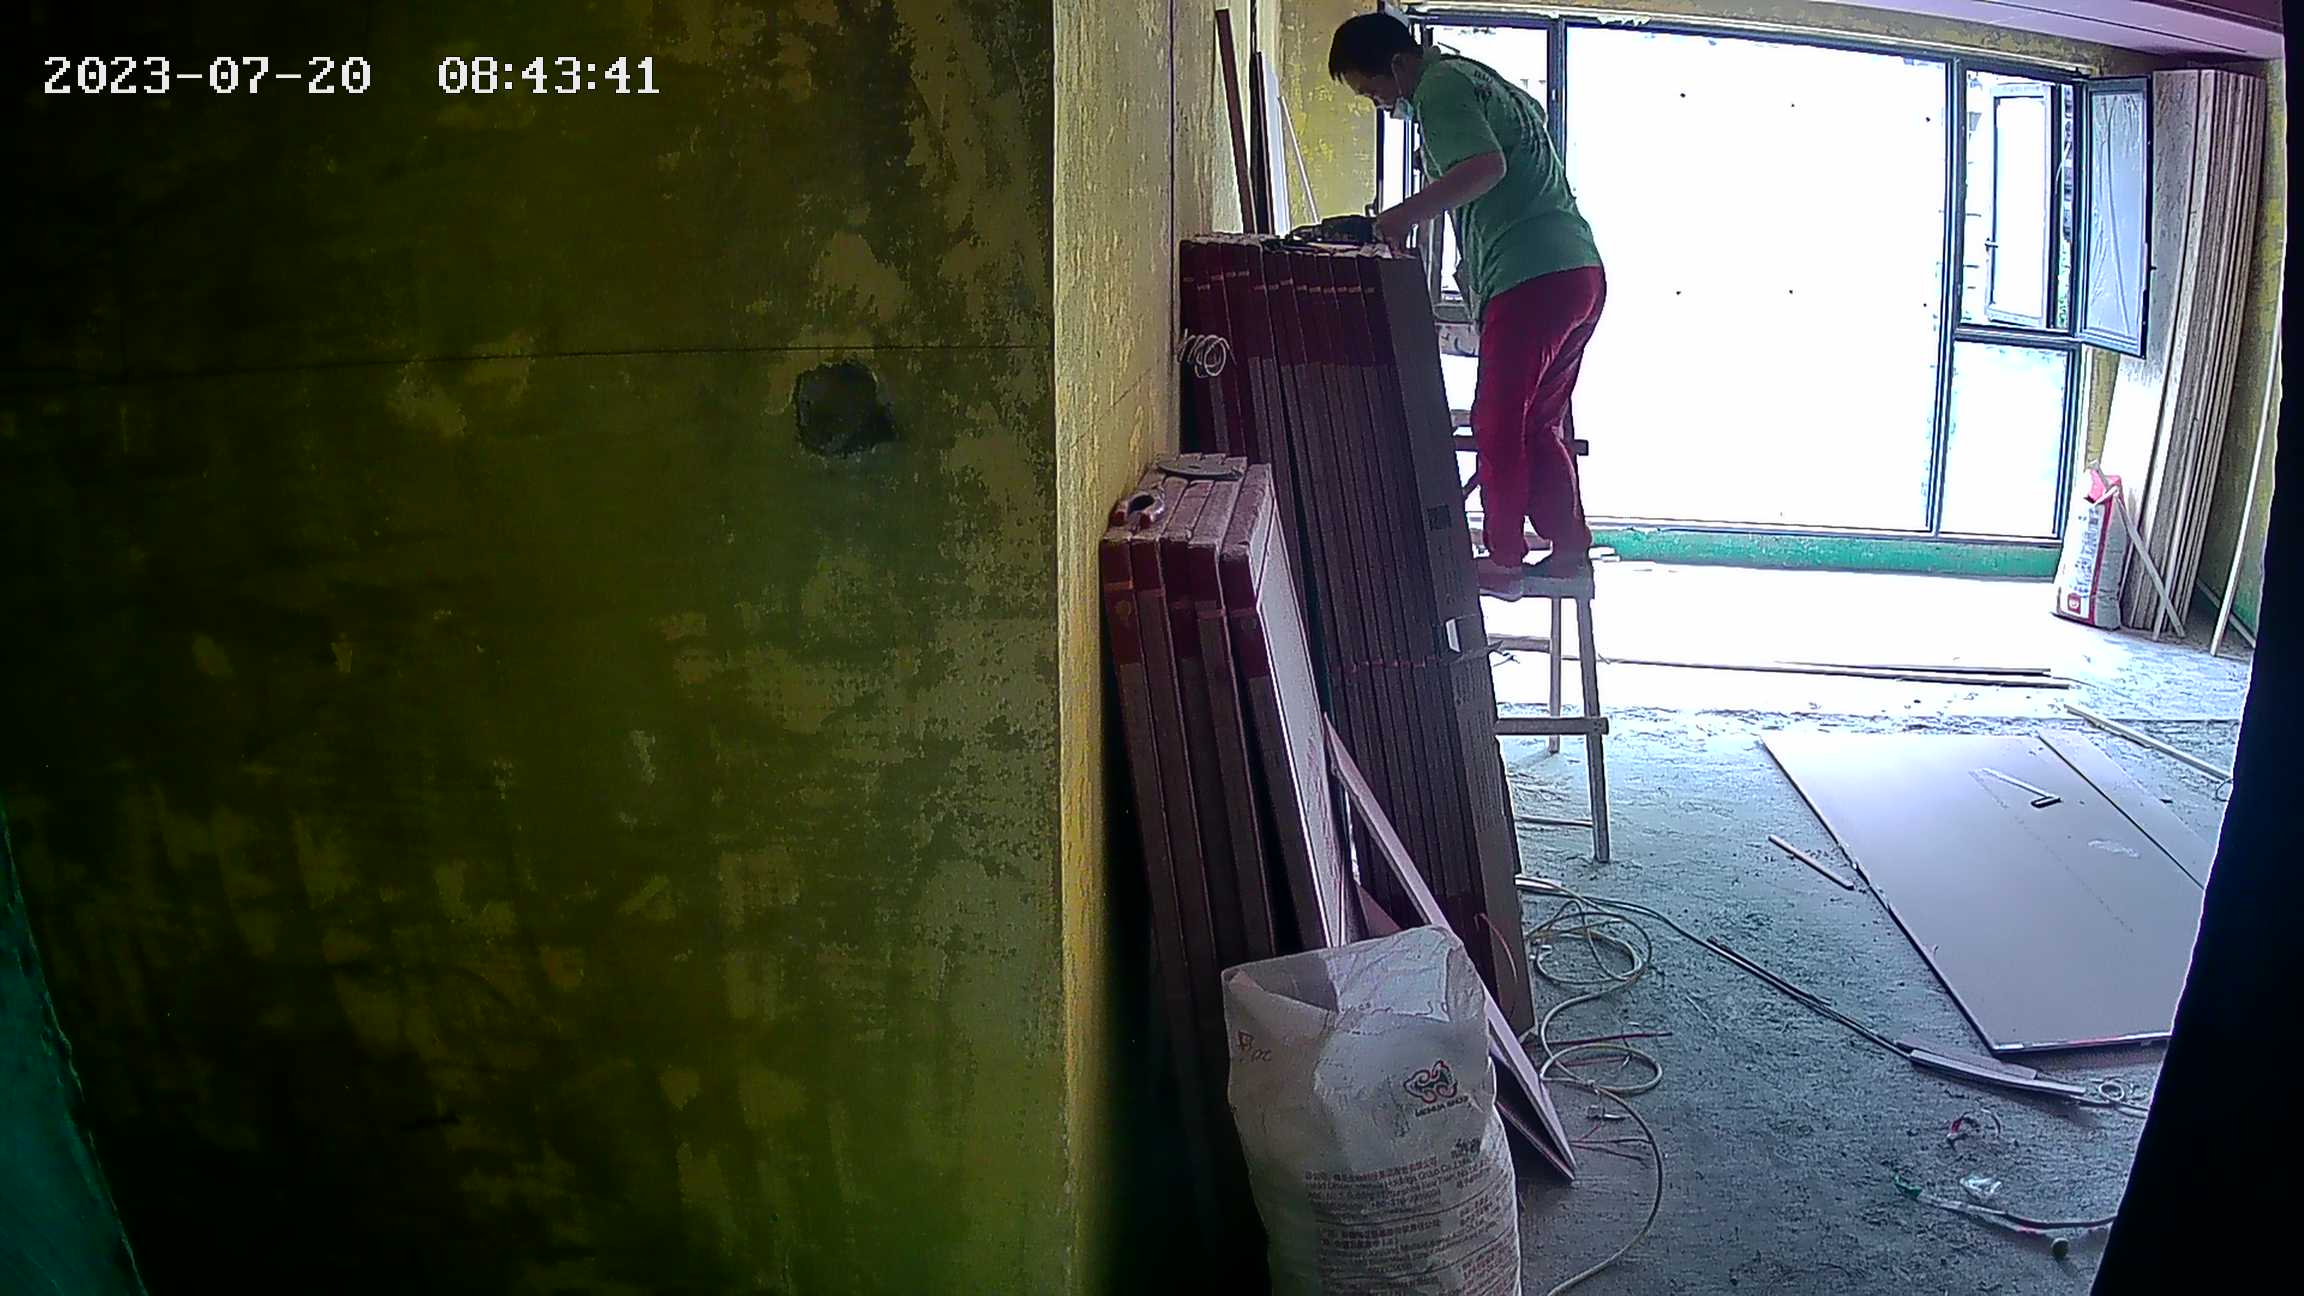people: (1324, 15, 1602, 586)
window: (1403, 17, 2066, 547)
